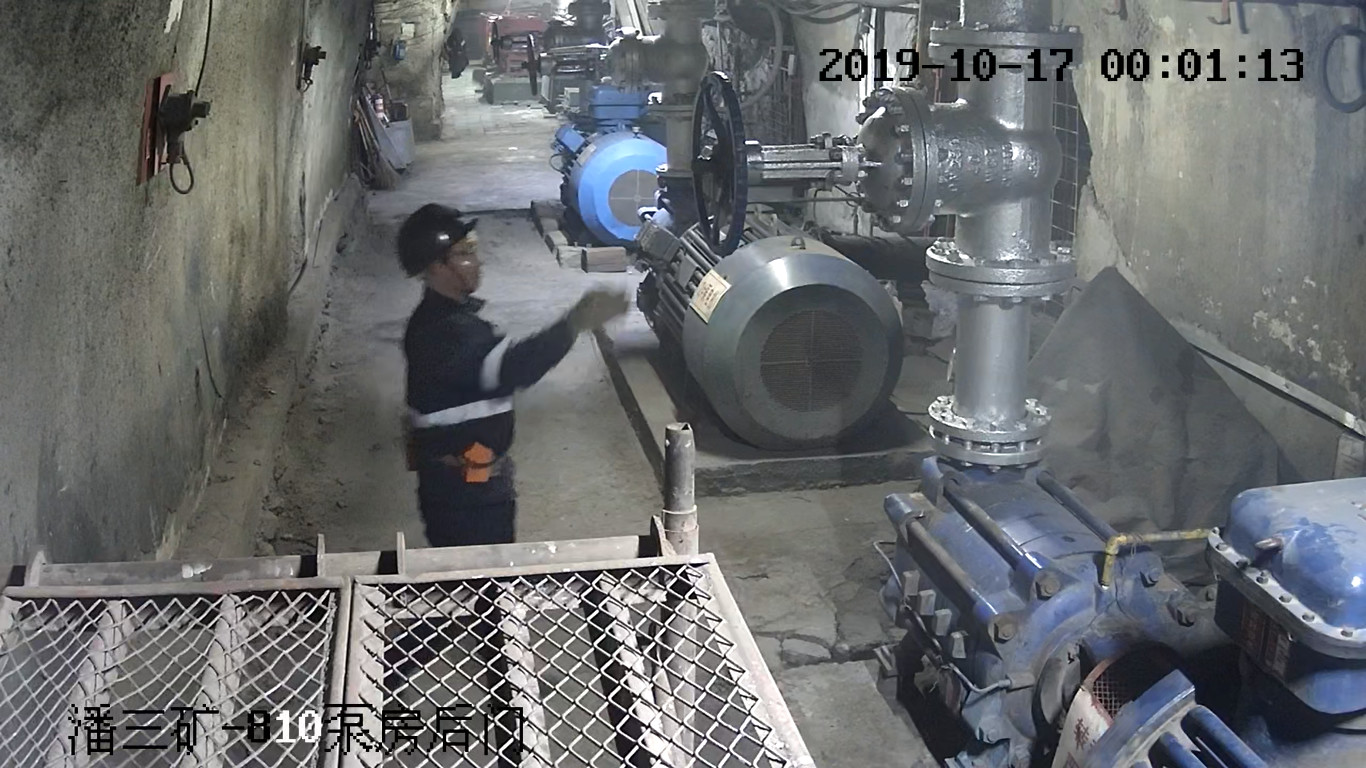helmet: (394, 200, 479, 278)
